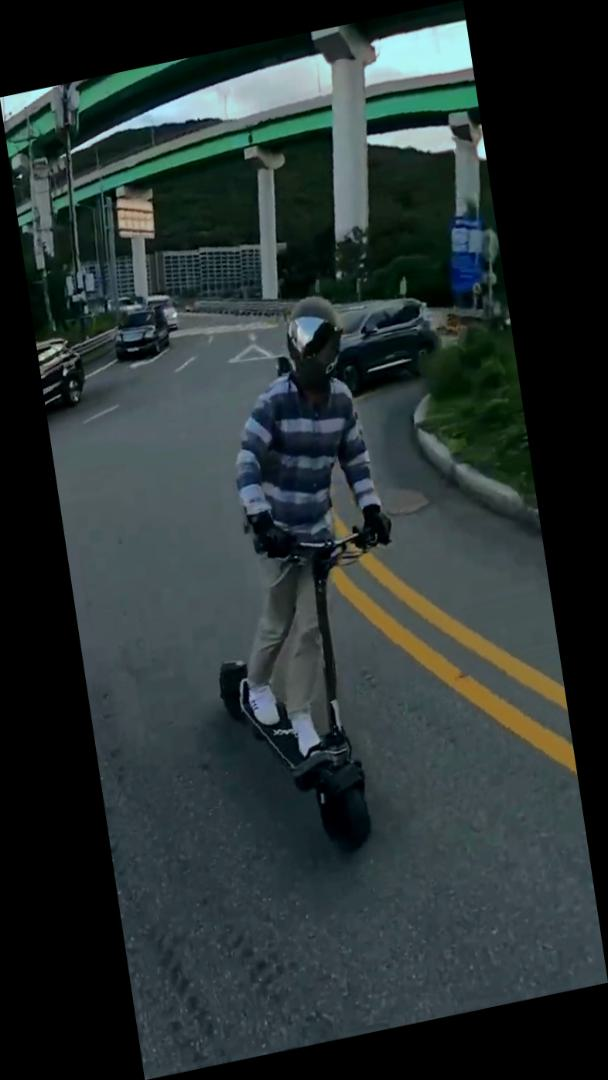helmet: (163, 282, 442, 873)
